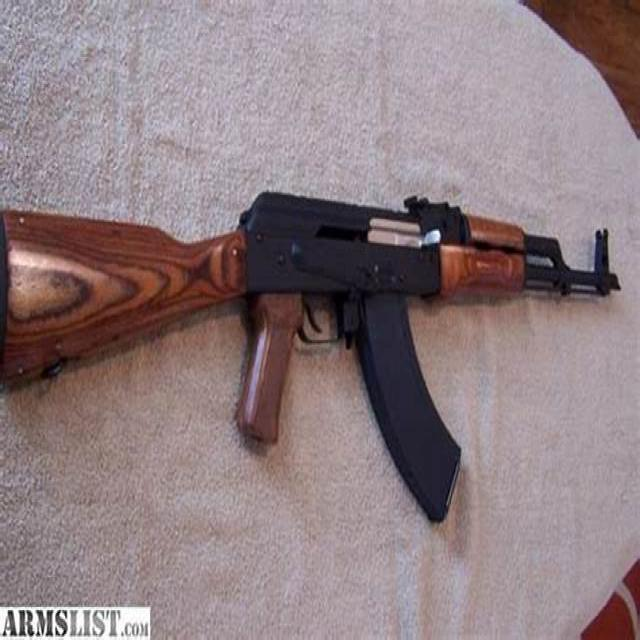ak: (0, 177, 624, 527)
